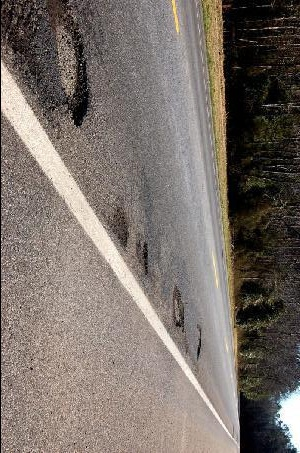pothole: (53, 15, 91, 127), (109, 204, 131, 248), (170, 283, 186, 330), (135, 237, 150, 276), (194, 321, 204, 358)
